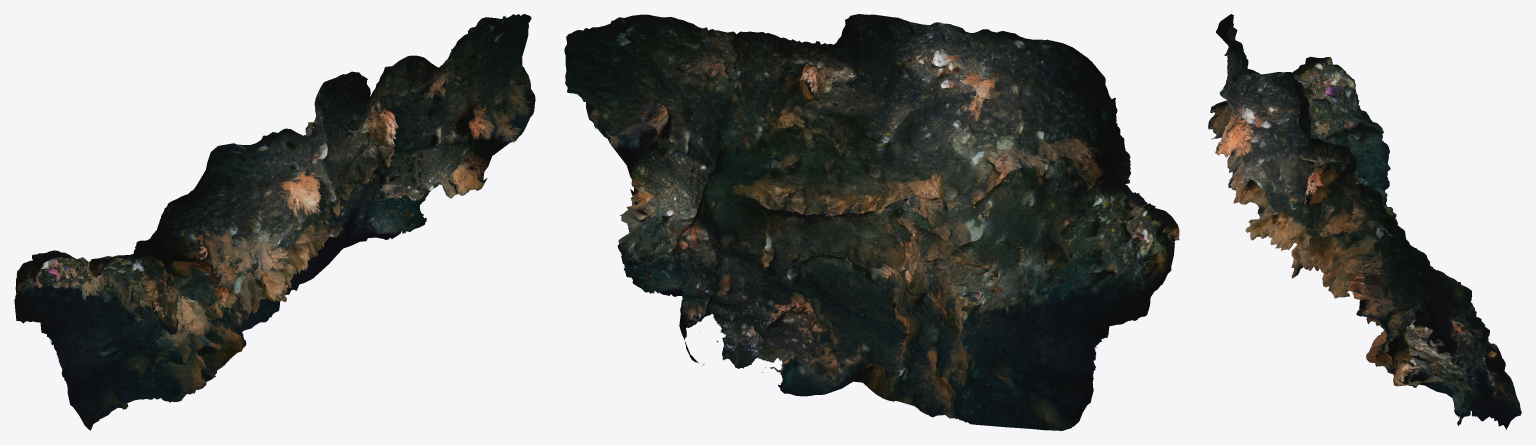
Rendered from sea_fan_corals-v2_draco.glb.
3 views of the same model, side by side, from view 1: azimuth 30°, elevation 25°; view 2: azimuth 150°, elevation 25°; view 3: azimuth 270°, elevation 25° (orthographic). The views are drawn at different scales.
Parts seen in each view (by area): view 1: Object_5, Object_2; view 2: Object_5, Object_2; view 3: Object_5, Object_2.
Part boxes in pixels (x1=…): Object_5: x1=14, y1=16, x2=505, y2=430; Object_2: x1=41, y1=14, x2=535, y2=419; Object_5: x1=614, y1=14, x2=1179, y2=430; Object_2: x1=564, y1=14, x2=1150, y2=430; Object_5: x1=1215, y1=14, x2=1521, y2=429; Object_2: x1=1208, y1=40, x2=1511, y2=425.
Bounding box in the file's own units: 12.05 × 6.89 × 5.54.
Materials: 2 (2 with a texture image).
